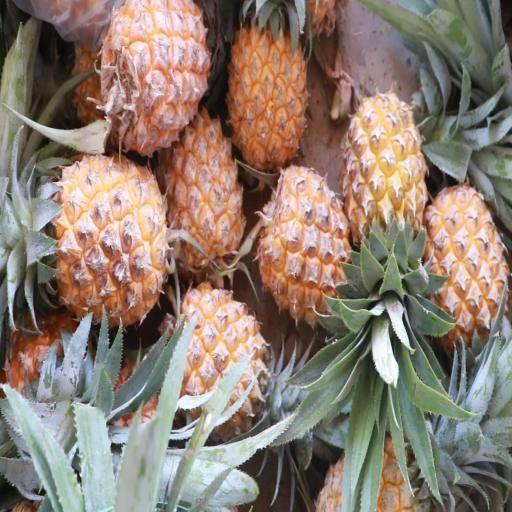Pineapple - v8 v1: (0, 152, 171, 330), (96, 0, 212, 163), (167, 281, 282, 439), (255, 157, 358, 326), (342, 89, 430, 286), (421, 182, 512, 370), (157, 104, 248, 281), (226, 0, 309, 184)
